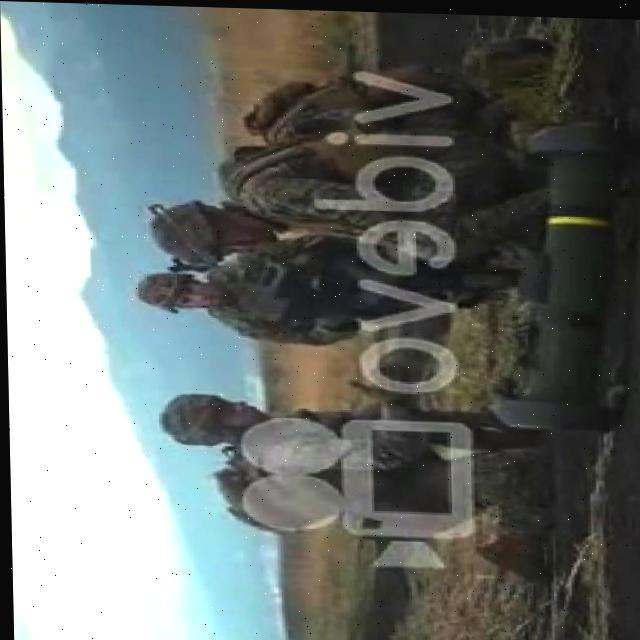rocket: (483, 119, 640, 436)
